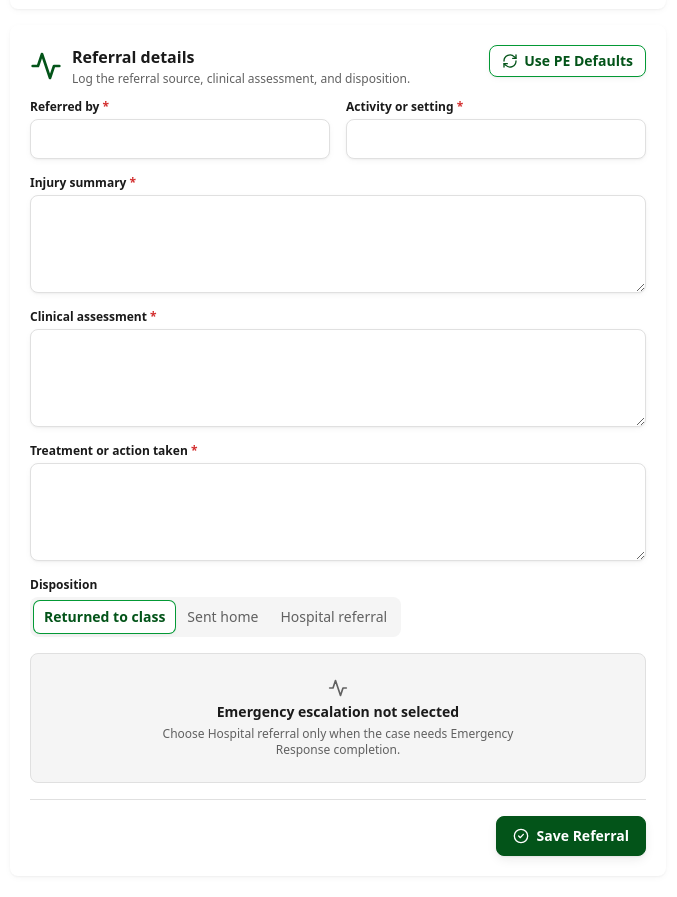
Test case: PE/Sports Injury Referral › validates required fields inline
(page scrolled)
Click the button "Save Referral": {"x": 571, "y": 836} [496, 816, 646, 856]
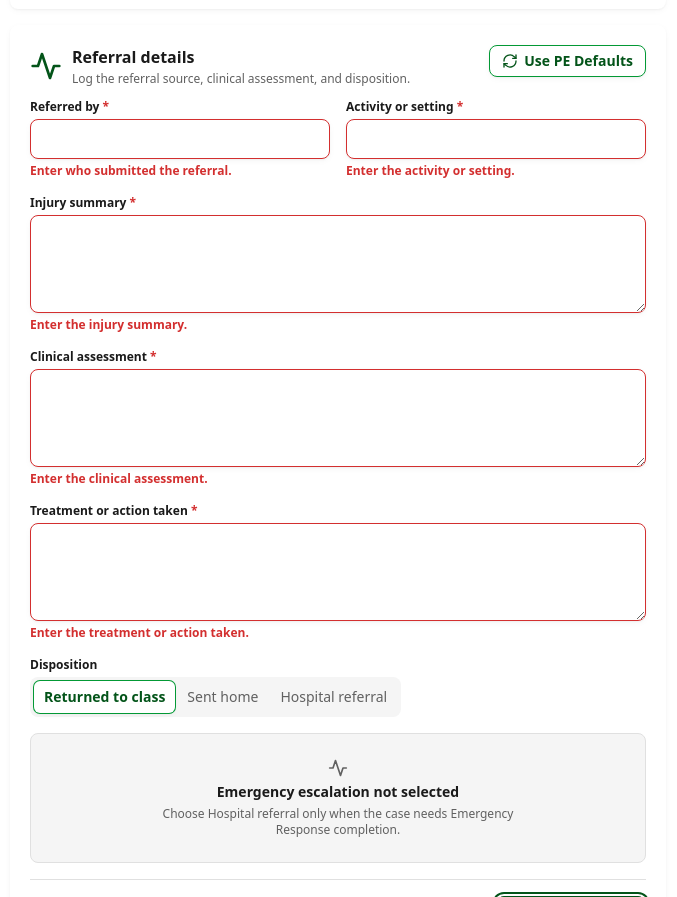
Check: the text "Enter who submitted the referral." is shown, box [30, 162, 232, 179]
Check: the text "Enter the injury summary." is shown, box [30, 316, 187, 333]
Check: the text "Enter the clinical assessment." is shown, box [30, 470, 208, 487]
